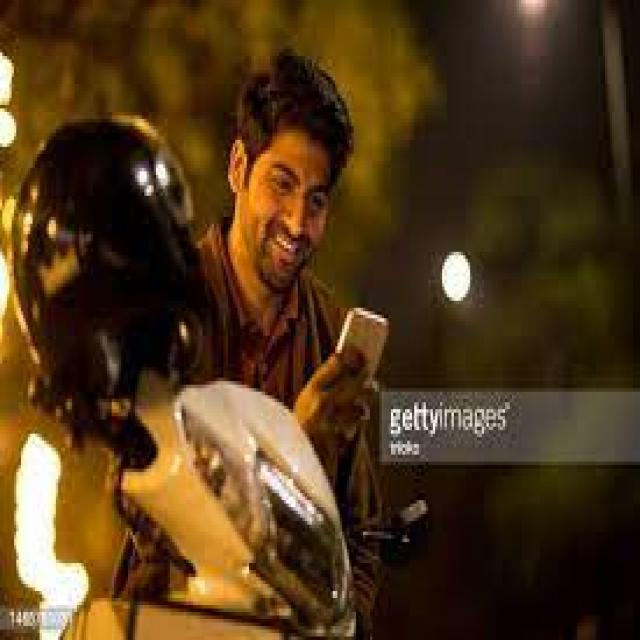Usage Of Phone While Riding: (218, 102, 430, 374)
